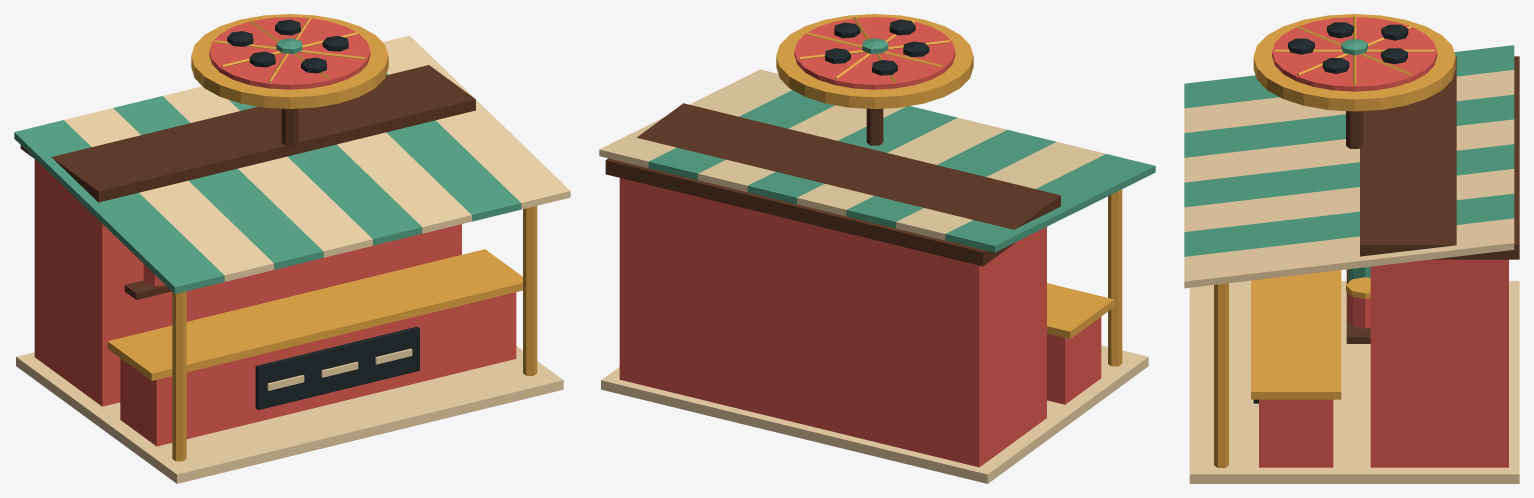
Rendered from ParkParkShopPizza.obj.
The picture shows the model from 3 angles, left to right: view 1: azimuth 30°, elevation 25°; view 2: azimuth 150°, elevation 25°; view 3: azimuth 270°, elevation 25°; orthographic projection. The views are drawn at different scales.
Visible parts, largest first — view 1: ParkParkShopPizza; view 2: ParkParkShopPizza; view 3: ParkParkShopPizza.
Boxes of the visible parts, x1,y1,x2,y2 form: ParkParkShopPizza: (14,14,570,483); ParkParkShopPizza: (599,14,1155,483); ParkParkShopPizza: (1184,14,1519,483).
Size of the model in its own units: 8.8 by 7.15 by 6.3.
